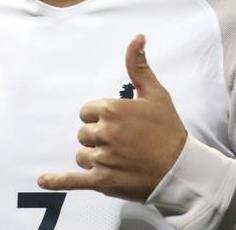clockwise: (31, 30, 169, 203)
